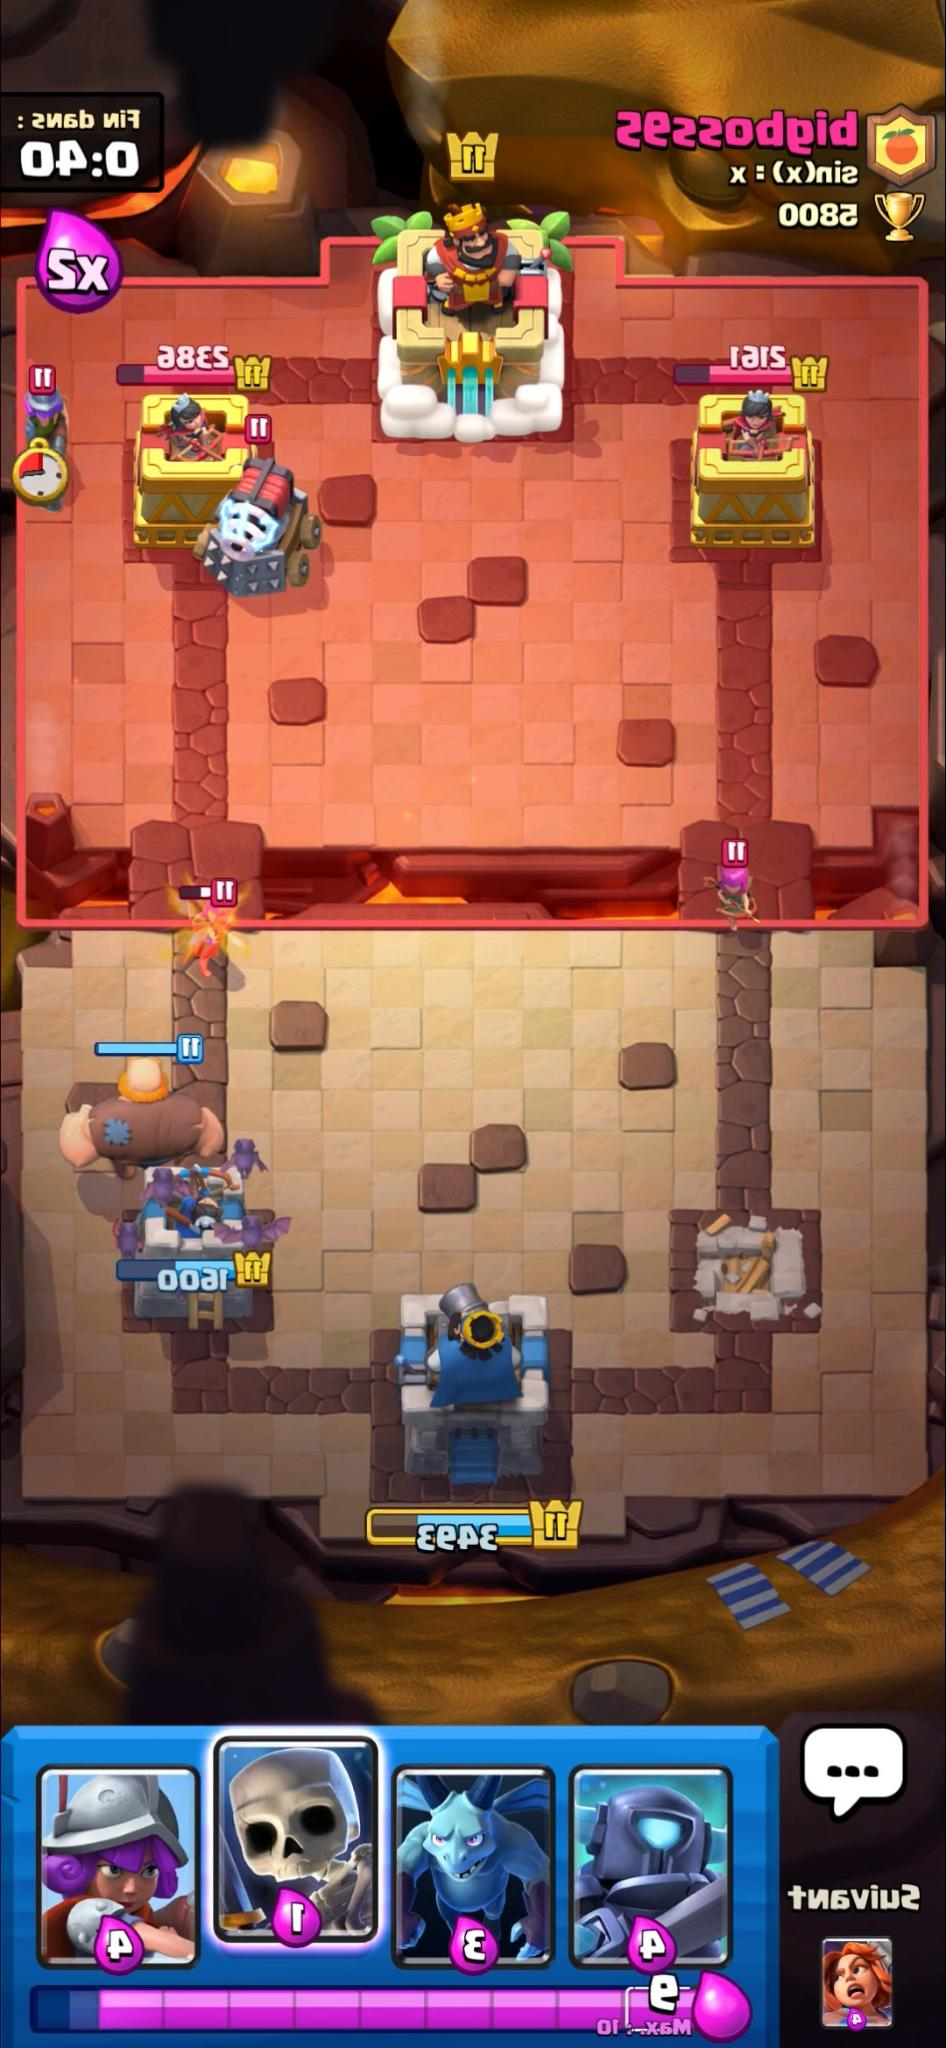archere: (163, 892, 240, 985)
bat: (216, 1207, 290, 1255), (221, 1135, 269, 1183)
geant: (47, 1055, 220, 1182)
mousquetaire: (10, 385, 68, 470)
zappy: (188, 458, 321, 597)
